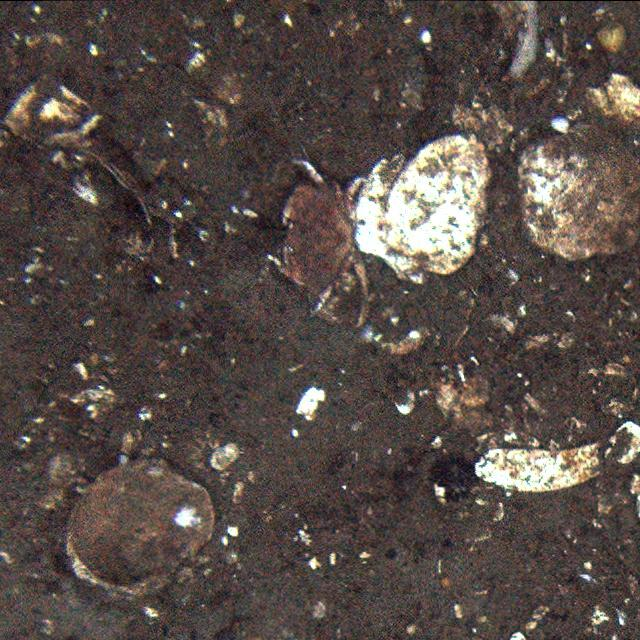crab: (268, 155, 374, 329)
